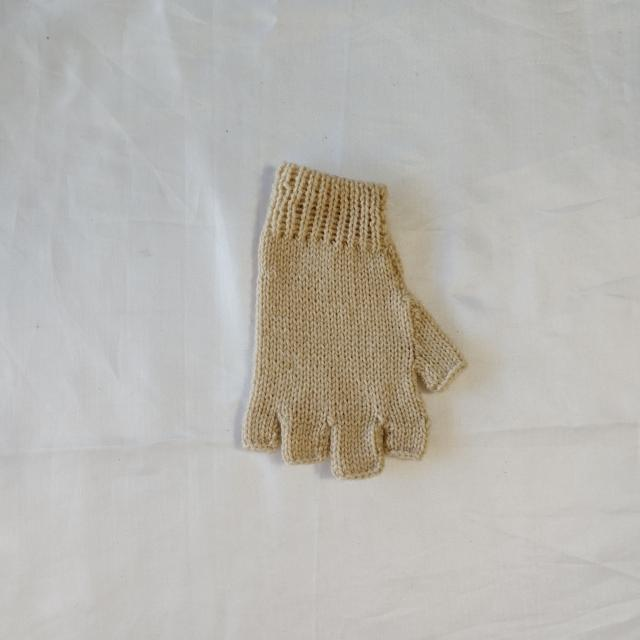Guante: (240, 160, 468, 480)
